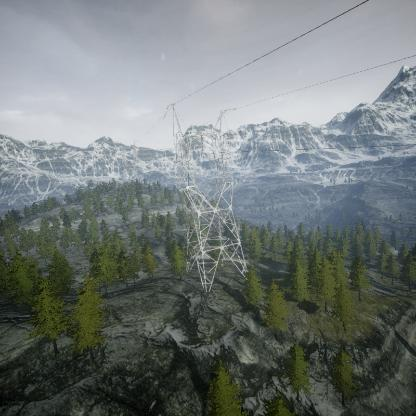tower: (162, 101, 255, 291)
